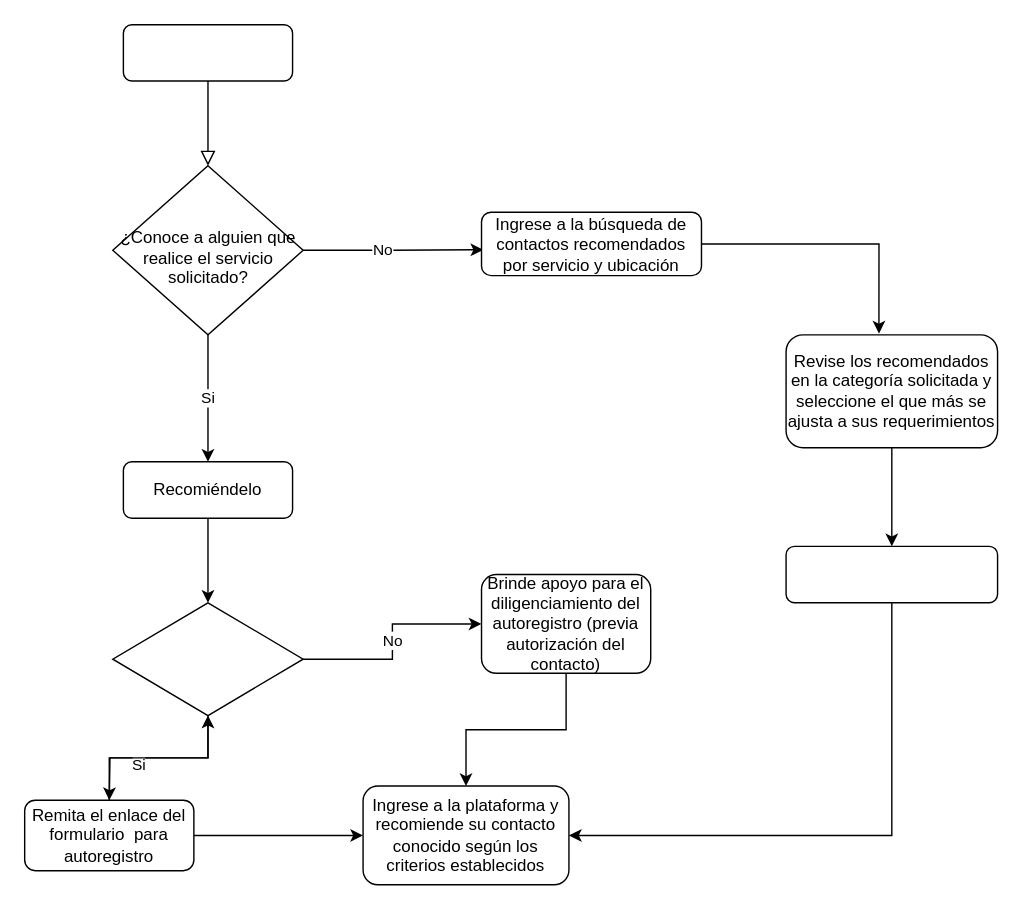
This 1022x909 diagram has some shape labels left out. Each missing label, with the centre of its shape:
Realice su cotización o servicio: (891,574)
¿El contacto tiene acceso a internet?: (207,658)
¿Requiere un servicio en su domicilio?: (207,52)
